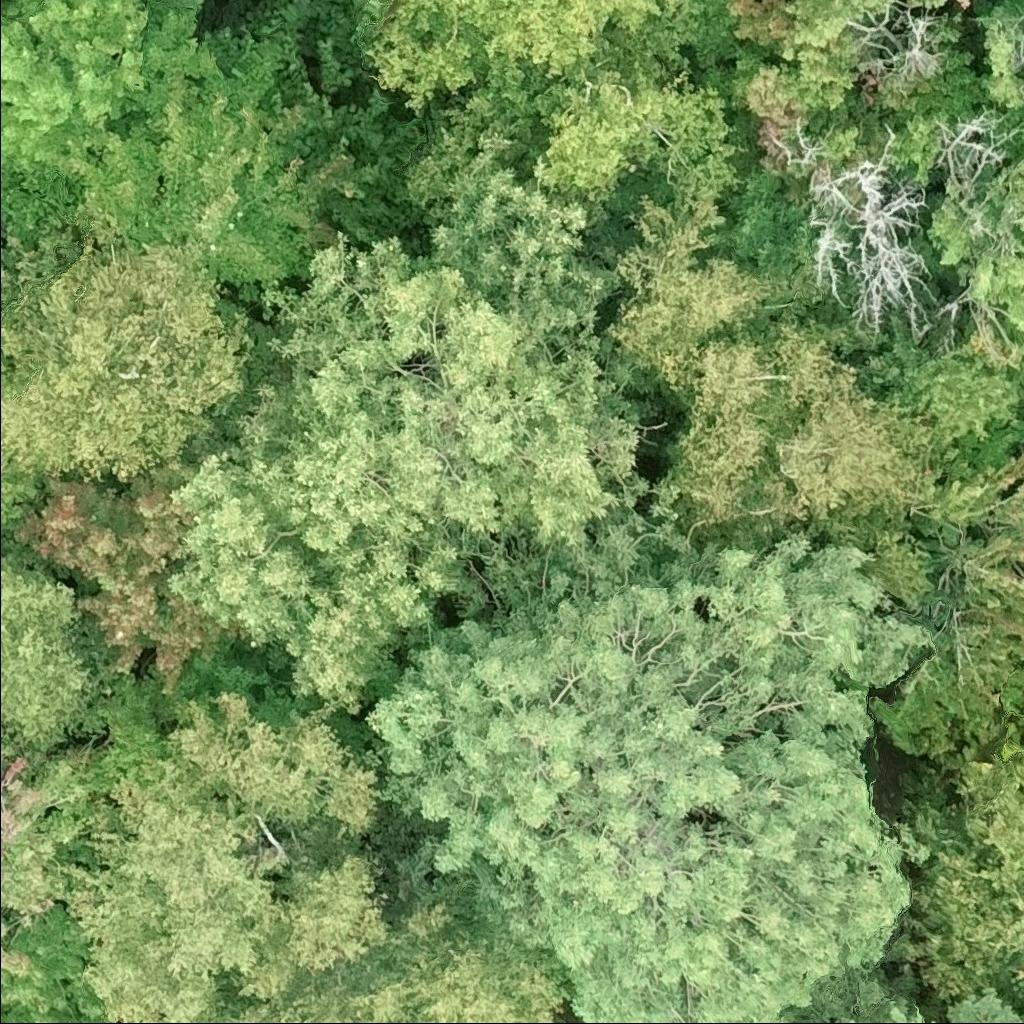crown: (361, 517, 934, 1023), (51, 688, 462, 1023), (10, 463, 246, 690), (873, 450, 1023, 756), (337, 877, 570, 1023), (893, 756, 1023, 1011), (0, 745, 100, 1011), (0, 551, 110, 762), (0, 903, 111, 1023), (193, 972, 381, 1023), (785, 961, 938, 1023), (944, 987, 1023, 1023)
